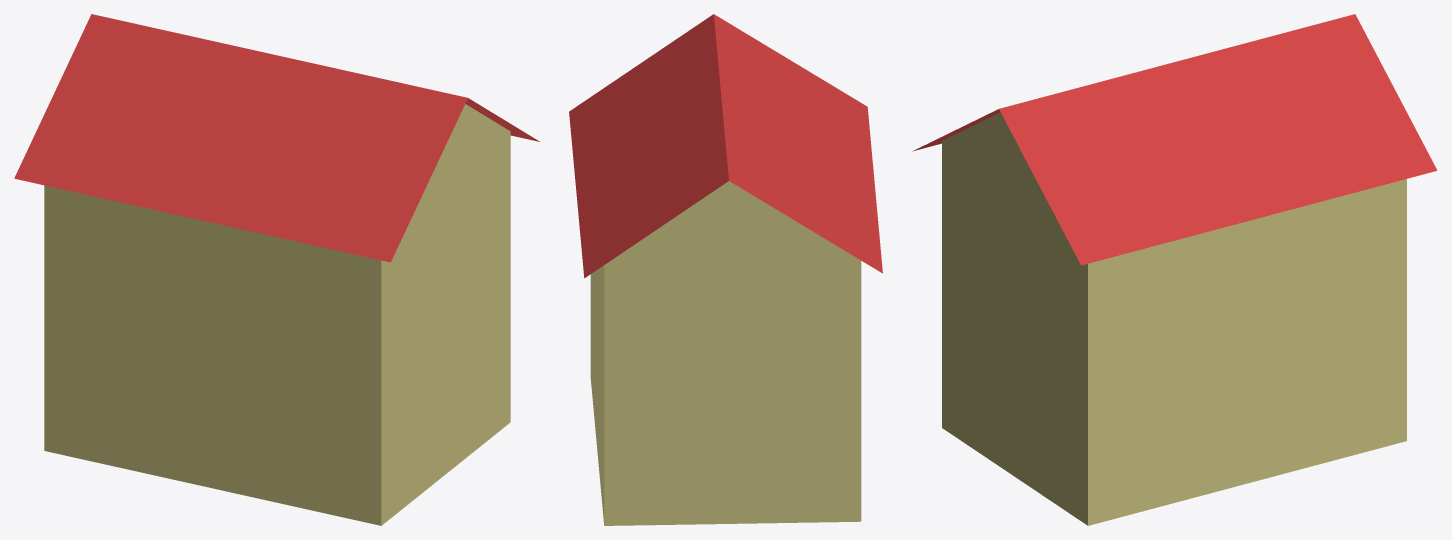
3 views of the same model, side by side, from view 1: azimuth 30°, elevation 25°; view 2: azimuth 150°, elevation 25°; view 3: azimuth 270°, elevation 25° (orthographic). The views are drawn at different scales.
Bounding box in the file's own units: 16.75 × 17.84 × 14.02.
